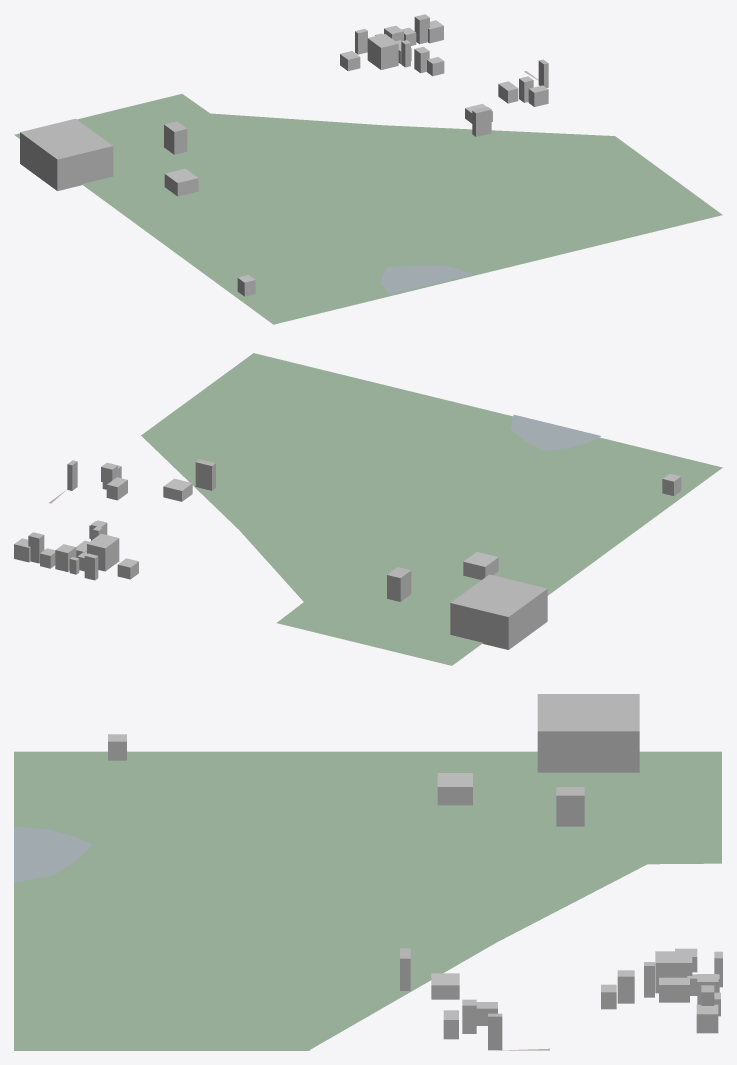
File: 131_82_mid.glb
3 views of the same model, one above another, from view 1: azimuth 30°, elevation 25°; view 2: azimuth 150°, elevation 25°; view 3: azimuth 270°, elevation 25° (orthographic). The views are drawn at different scales.
Size of the model in its own units: 527 by 33.73 by 501.
